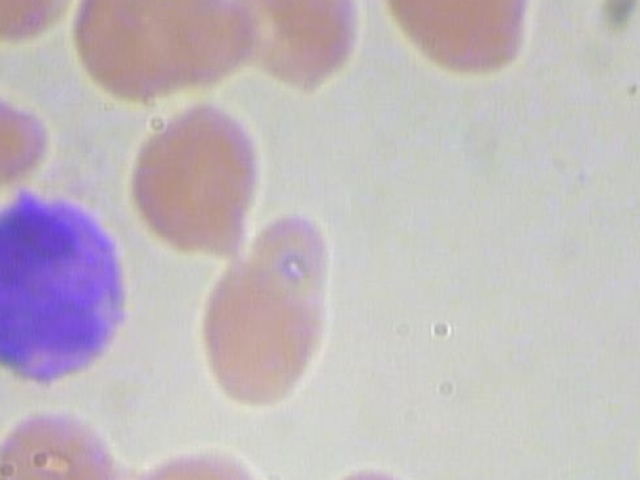RBC: (115, 102, 280, 258), (172, 255, 337, 411), (63, 0, 251, 109), (217, 0, 373, 101), (379, 0, 533, 76), (0, 400, 131, 480), (0, 0, 87, 50)
WBC: (0, 178, 138, 386)
